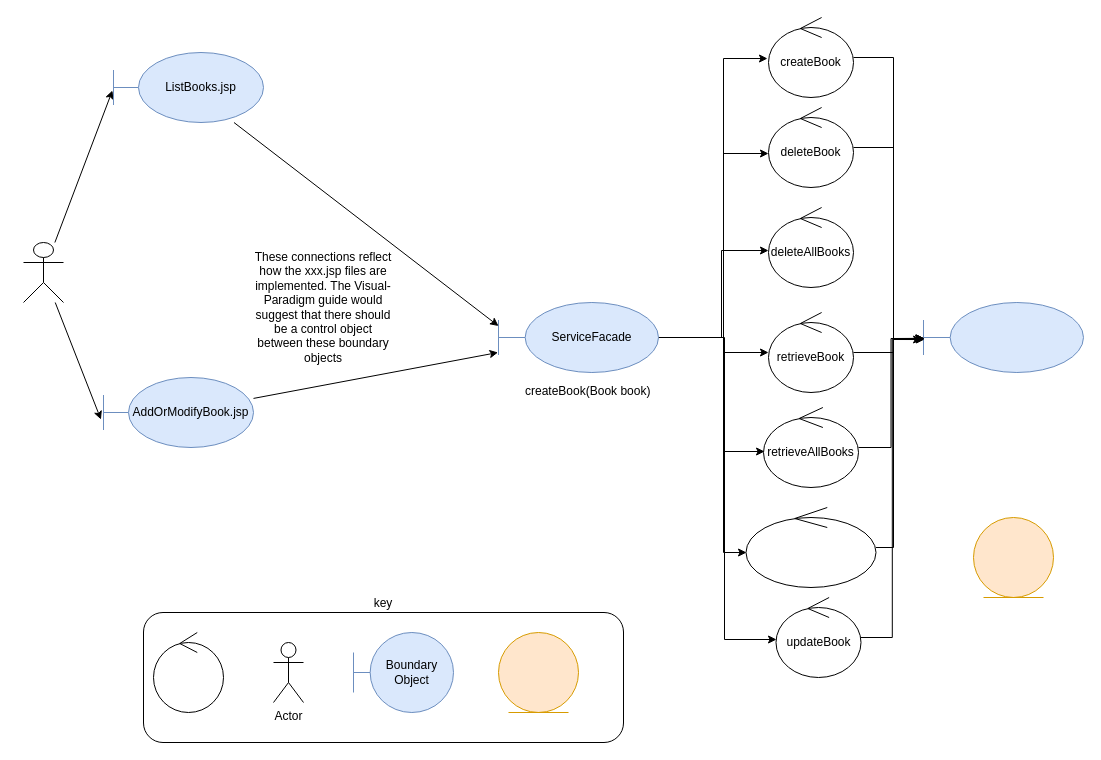
The diagram is 1101 pixels wide and 760 high, and some of its shapes have lost their labels. The shapes that lost their labels are listed below. From the top down, each one's centre as x and y in pixels, then its label:
At point (43, 272): "Web User".
At point (1003, 337): "BookDAO".
At point (810, 547): "retrieveMatchingBooks".
At point (1013, 557): "Book Object".
At point (188, 672): "Control Object".
At point (538, 672): "Entity Object".
